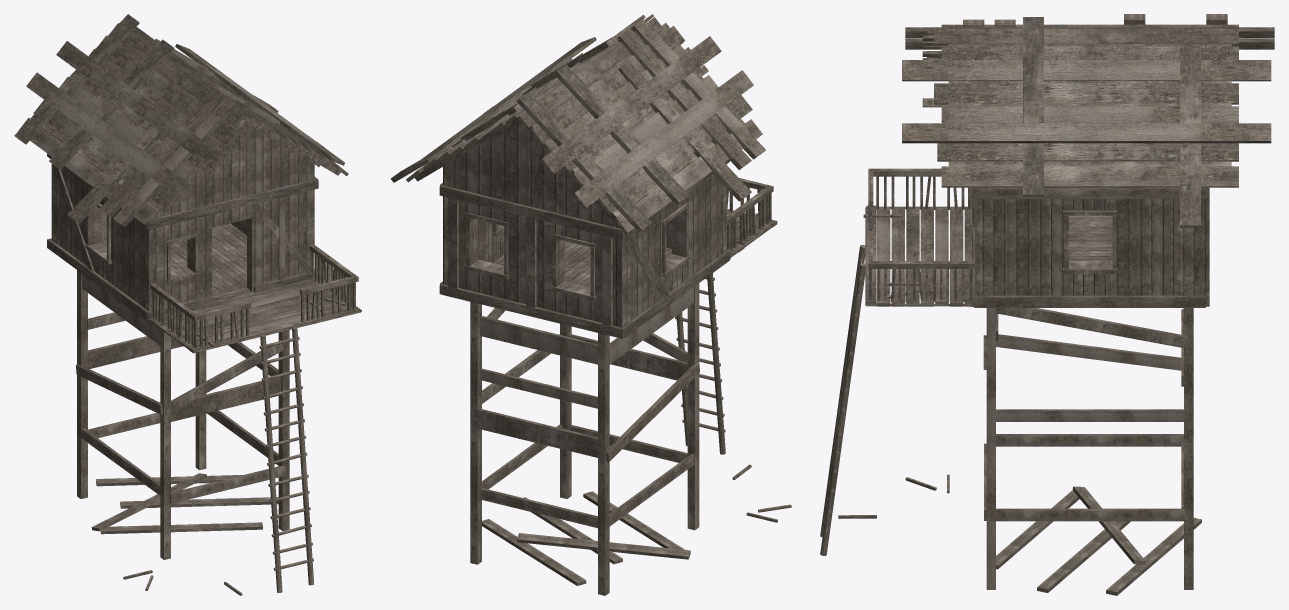
Rendered from Abandoned watchtower.fbx.
3 views of the same model, side by side, from view 1: azimuth 30°, elevation 25°; view 2: azimuth 150°, elevation 25°; view 3: azimuth 270°, elevation 25° (orthographic). The views are drawn at different scales.
Visible parts, largest first — view 1: Abandoned watchtower, Ladder, Broken wood board; view 2: Abandoned watchtower, Broken wood board, Ladder; view 3: Abandoned watchtower, Broken wood board, Ladder.
Boxes of the visible parts, x1,y1,x2,y2 form: Abandoned watchtower: (14, 14, 361, 559); Ladder: (259, 327, 313, 592); Broken wood board: (91, 473, 278, 534); Abandoned watchtower: (391, 14, 777, 595); Broken wood board: (482, 491, 690, 585); Ladder: (675, 273, 725, 454); Abandoned watchtower: (863, 14, 1274, 589); Broken wood board: (996, 486, 1201, 595); Ladder: (820, 245, 865, 555).
Size of what is drawn, in the model's own units: 848 by 1397 by 1064.
Materials: 1 (1 with a texture image).
